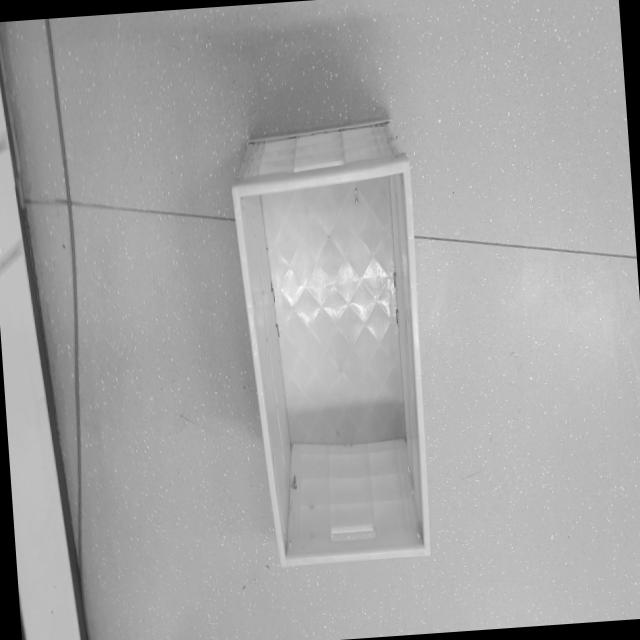box: (222, 108, 456, 590)
